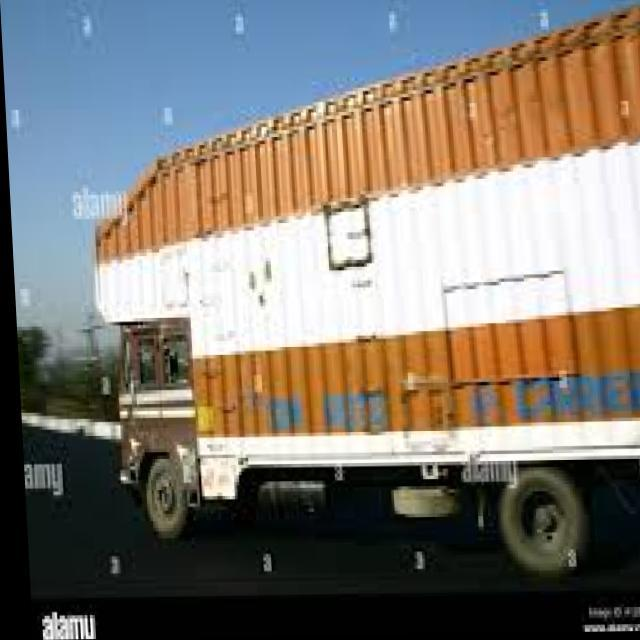covered: (74, 24, 640, 578)
